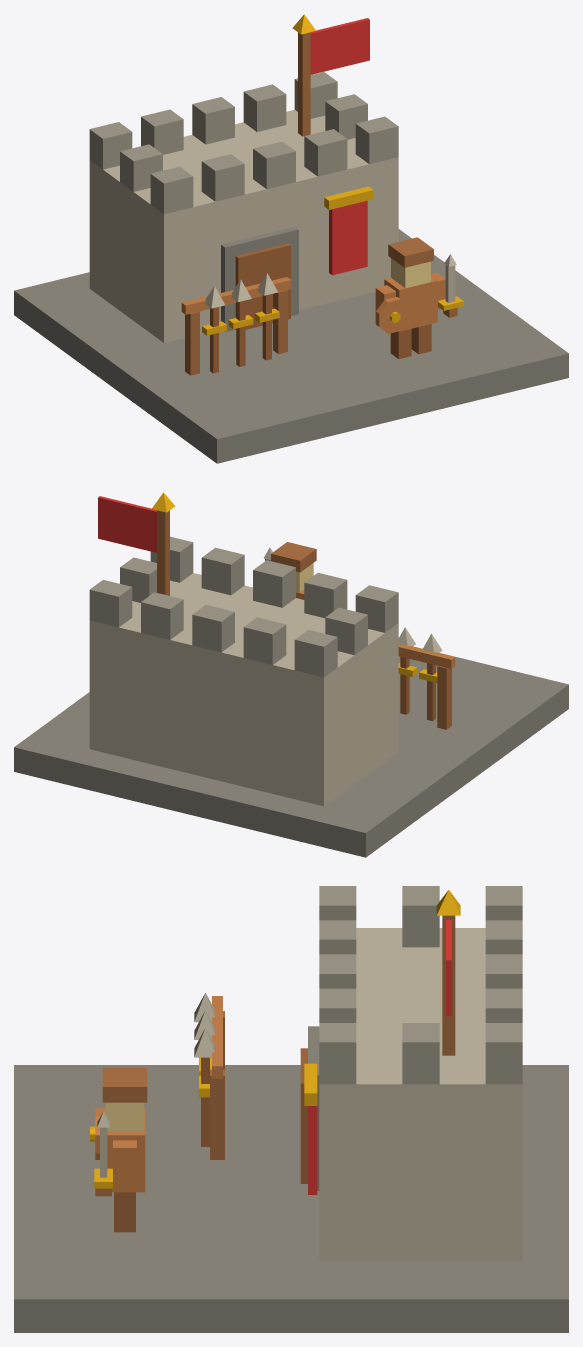
The model's file is barracks_t1_v2.glb.
3 renders of one model, top to bottom at view 1: azimuth 30°, elevation 25°; view 2: azimuth 150°, elevation 25°; view 3: azimuth 270°, elevation 25°, orthographic. The views are drawn at different scales.
Visible parts, largest first — view 1: barracks_t1_v2; view 2: barracks_t1_v2; view 3: barracks_t1_v2.
Part boxes in pixels (x1,y1,x2,y2): barracks_t1_v2: (14,14,568,463); barracks_t1_v2: (14,492,568,857); barracks_t1_v2: (14,886,568,1332).
Bounding box in the file's own units: 0.6 × 0.445 × 0.6.
1 material, 1 textured.
